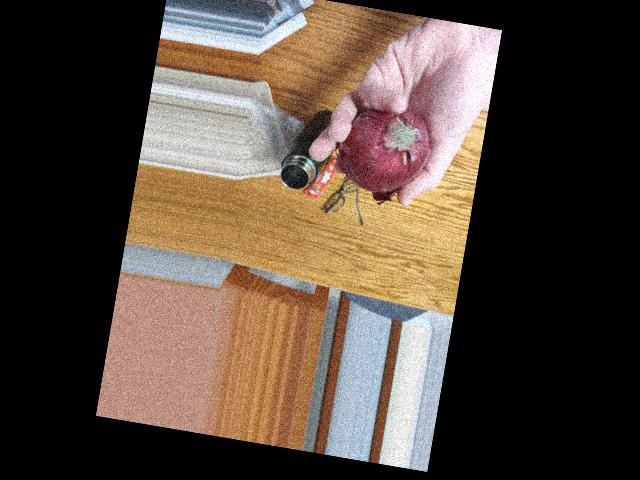onion: (335, 97, 438, 192)
